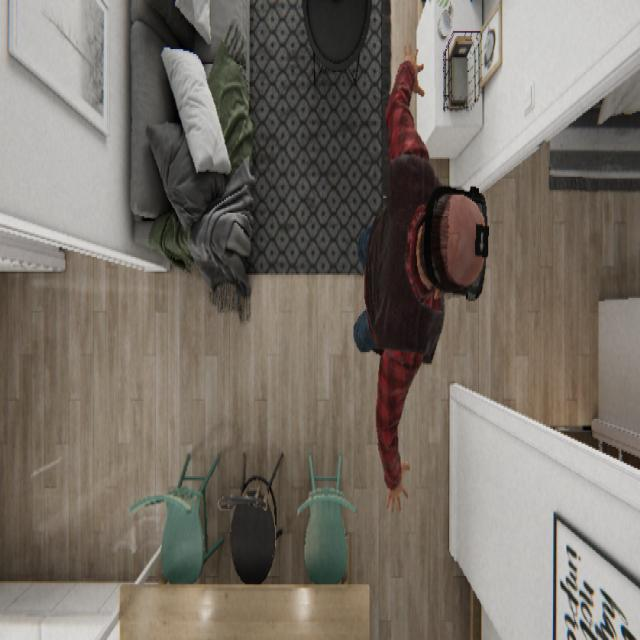Human: (352, 42, 489, 512)
UnityLogo: (473, 219, 489, 259)
